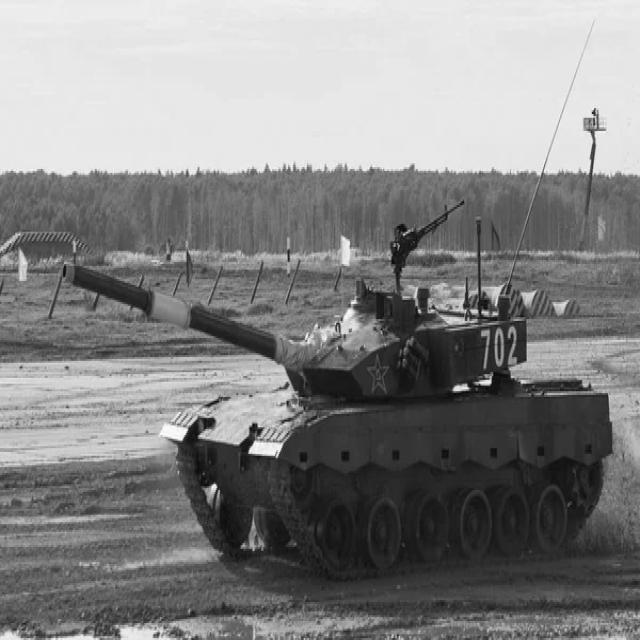Tank: (59, 239, 618, 567)
